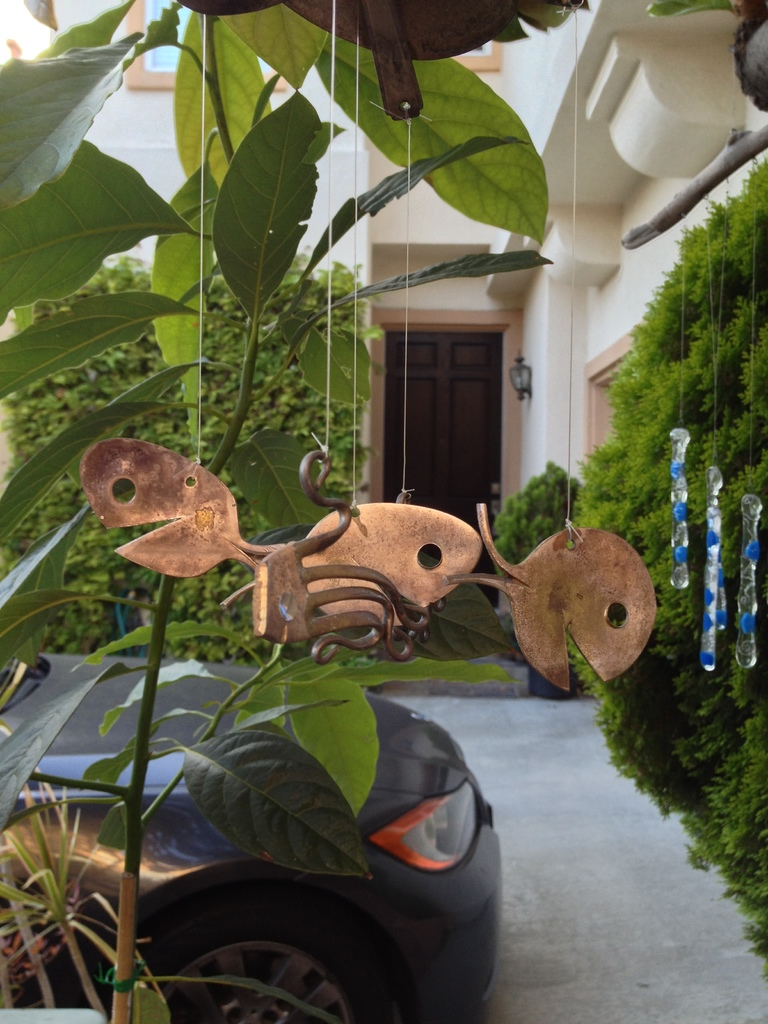Car: (76, 638, 554, 1006)
